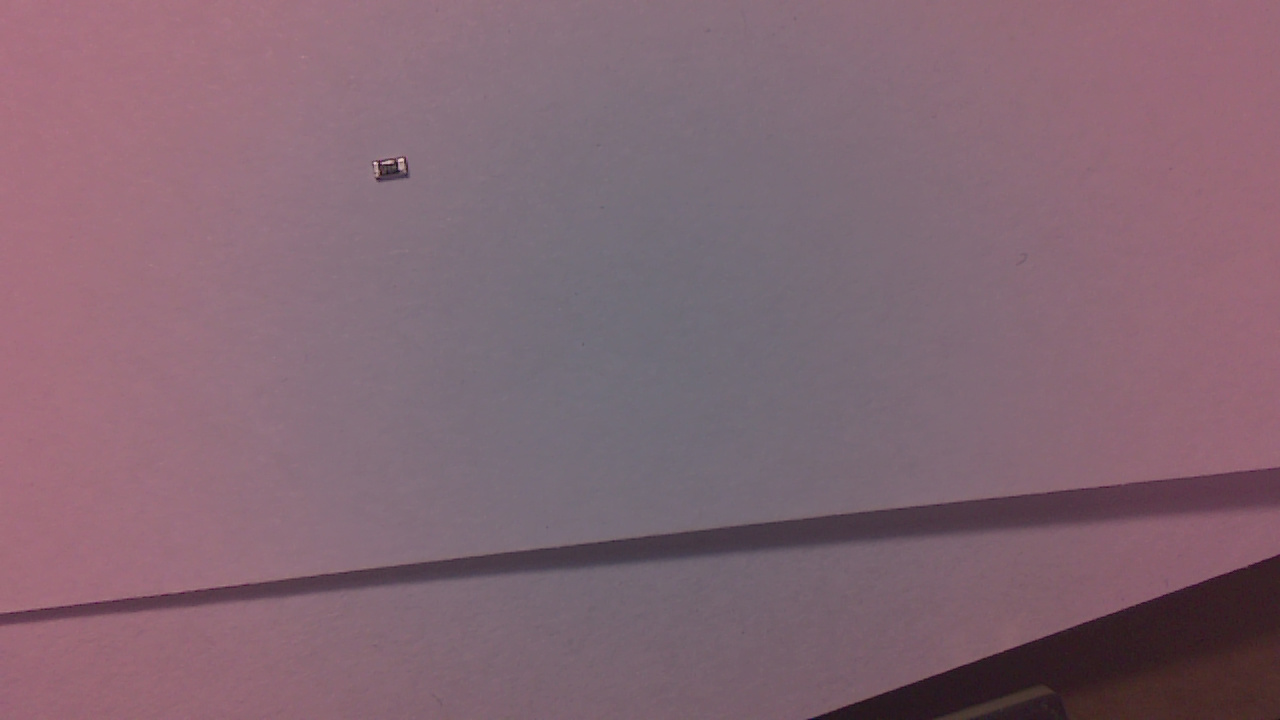Resistor: (375, 158, 414, 186)
